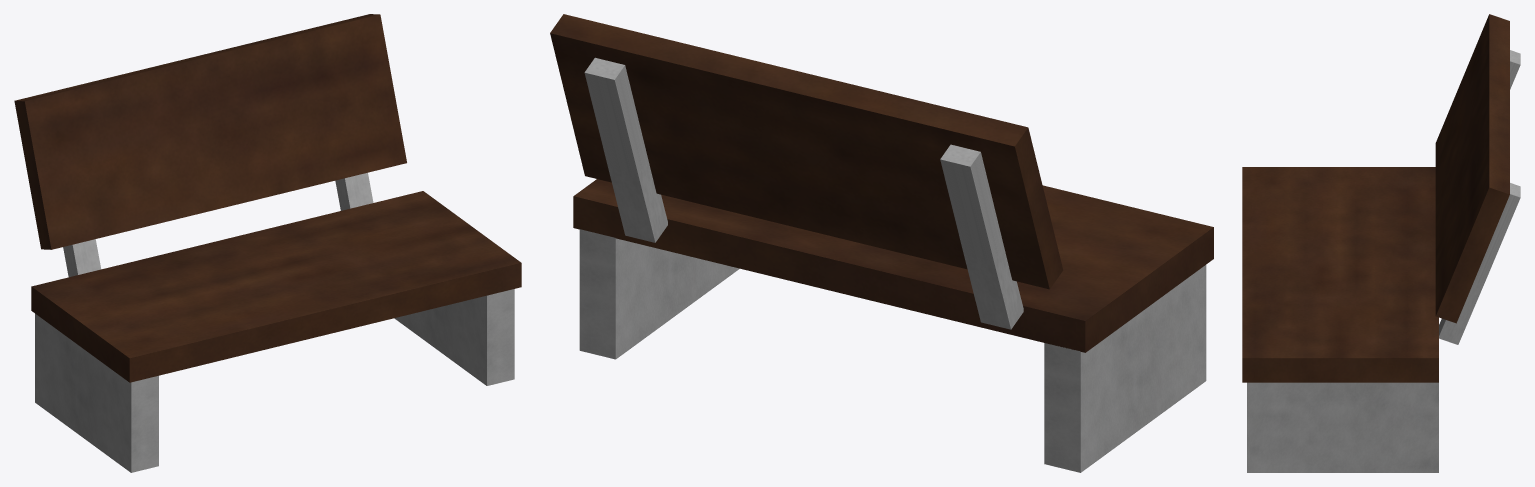
Rendered from footbridge.fbx.
The picture shows the model from 3 angles, left to right: view 1: azimuth 30°, elevation 25°; view 2: azimuth 150°, elevation 25°; view 3: azimuth 270°, elevation 25°; orthographic projection. The views are drawn at different scales.
Visible parts, largest first — view 1: lavka; view 2: lavka; view 3: lavka.
Boxes of the visible parts, <box> form: lavka: <box>14,14,521,472</box>; lavka: <box>550,14,1213,472</box>; lavka: <box>1242,14,1520,472</box>.
Size of the model in its own units: 132 by 90.23 by 81.53.
